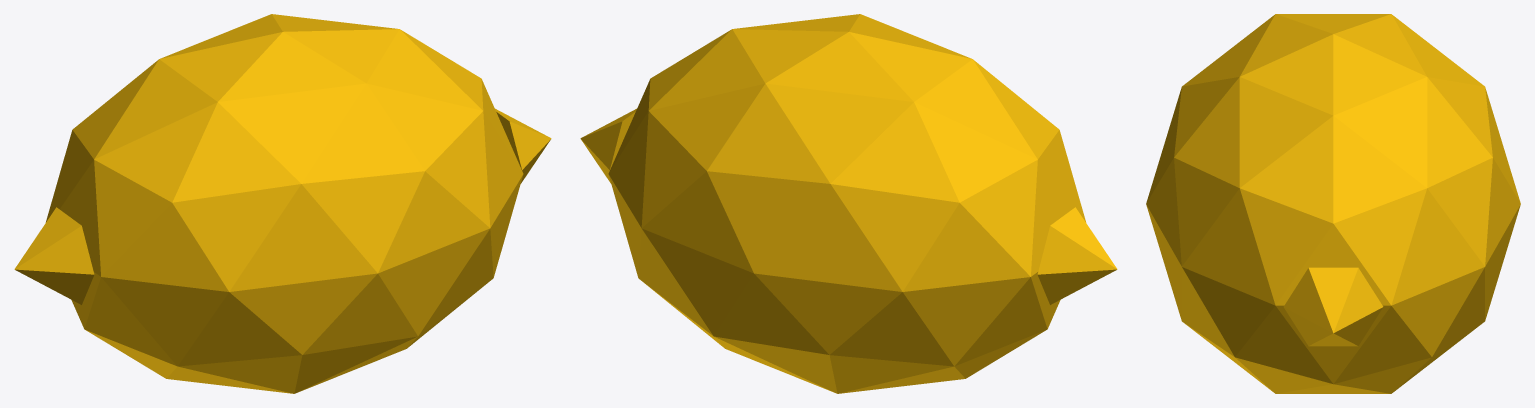
Rendered from lemon.obj.
3 renders of one model, left to right at view 1: azimuth 30°, elevation 25°; view 2: azimuth 150°, elevation 25°; view 3: azimuth 270°, elevation 25°, orthographic.
Visible parts, largest first — view 1: lemon; view 2: lemon; view 3: lemon.
Boxes of the visible parts, x1,y1,x2,y2 form: lemon: [14, 14, 551, 393]; lemon: [580, 14, 1117, 393]; lemon: [1146, 14, 1520, 393].
Size of the model in its own units: 0.098 by 0.06 by 0.06.
